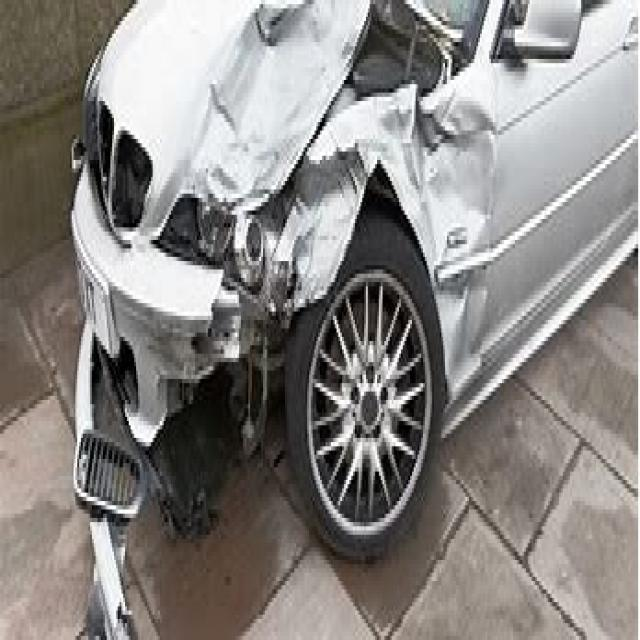Accident: (105, 60, 459, 592)
